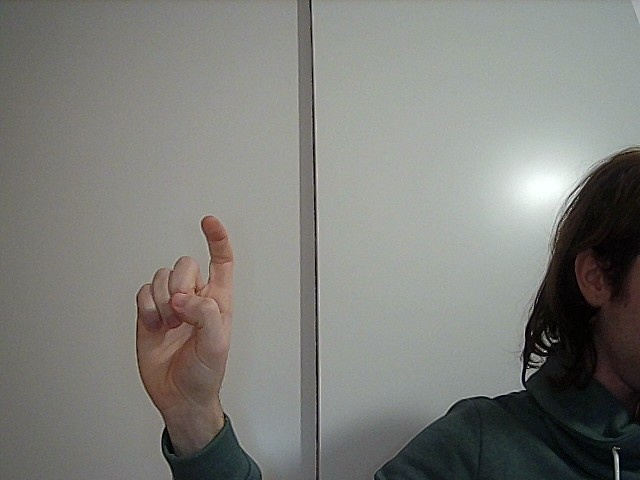x: (128, 211, 241, 395)
